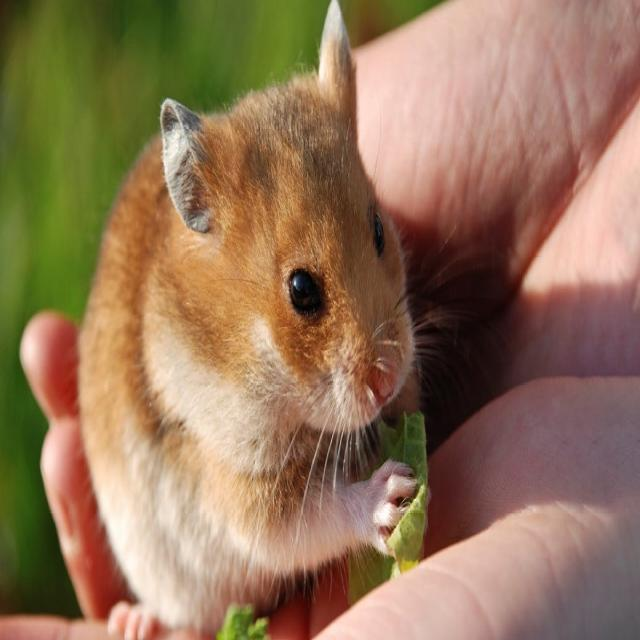hamster: (76, 2, 434, 633)
